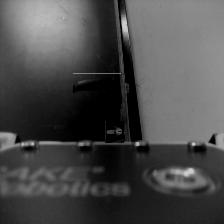Door Handle: (73, 73, 121, 110)
Lock: (104, 122, 124, 142)
